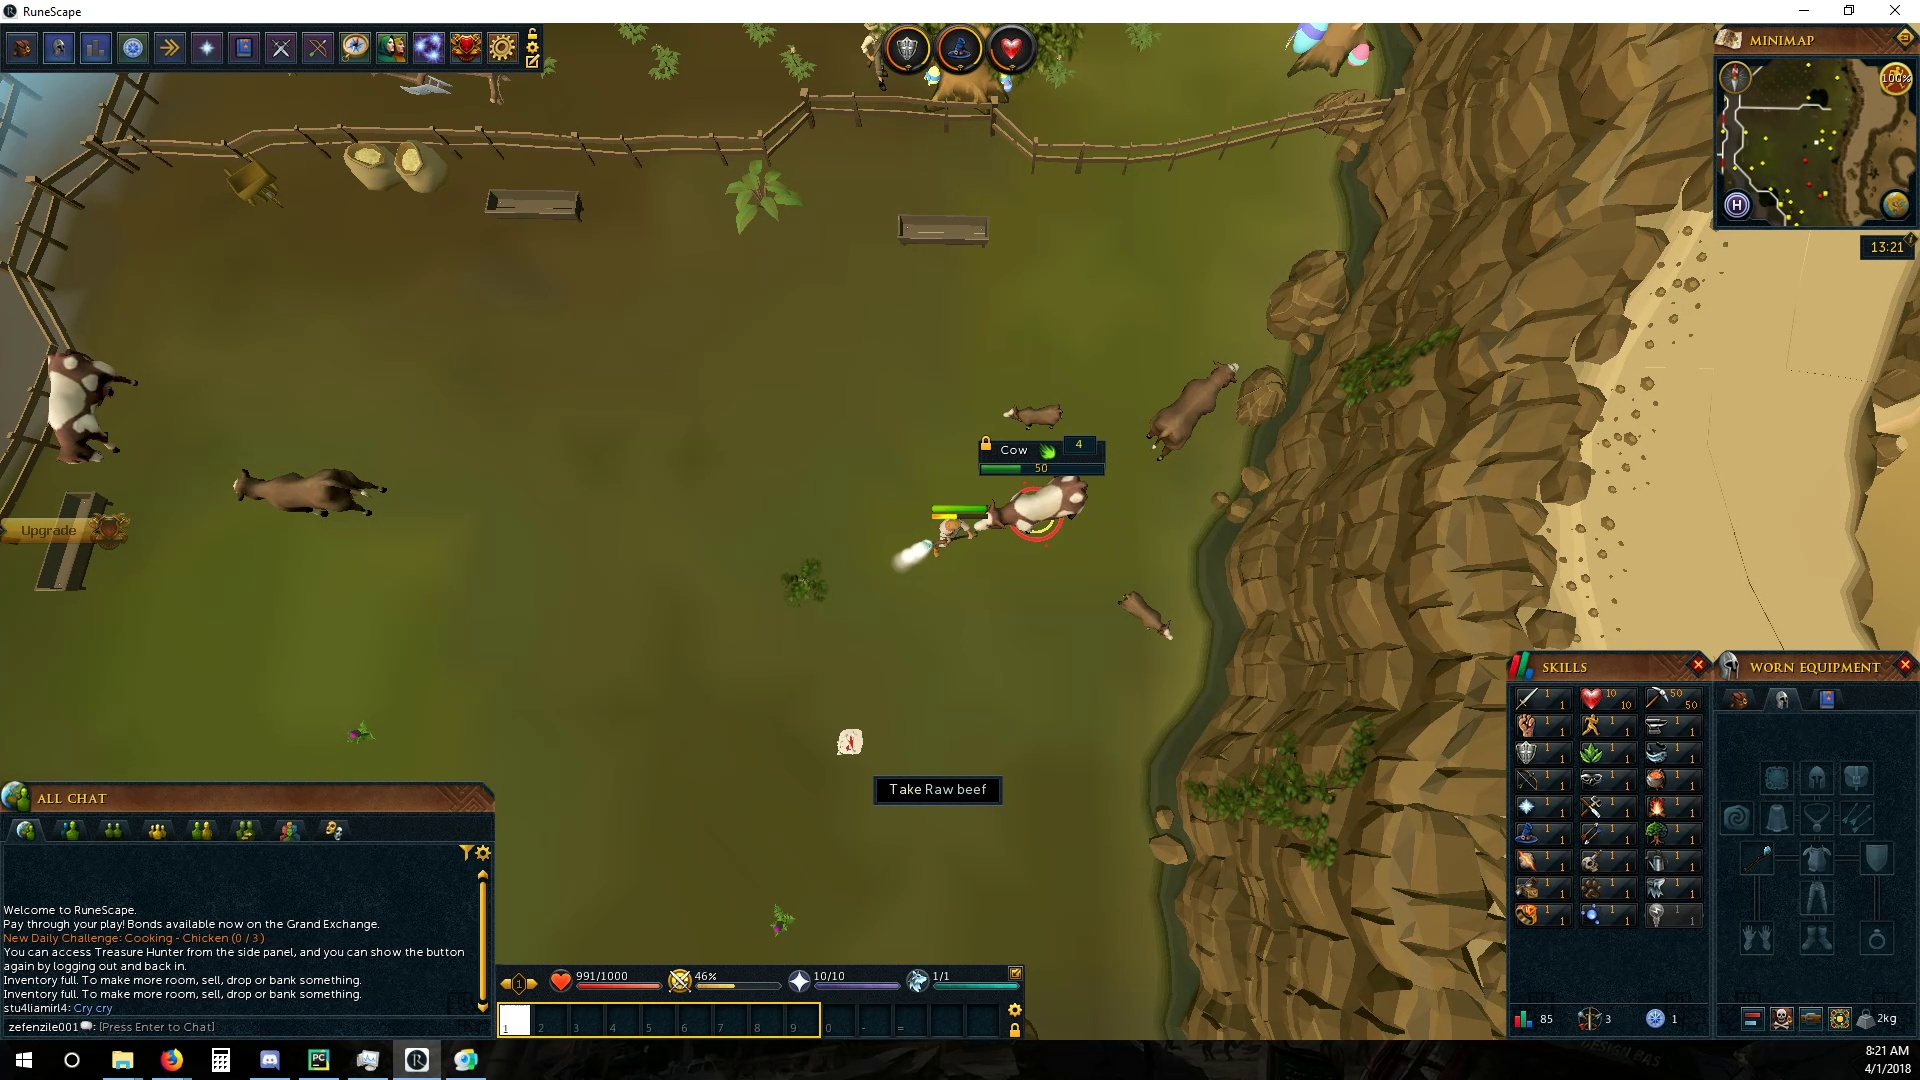calf: (1110, 589, 1175, 644), (998, 402, 1068, 434)
cow: (40, 348, 140, 469), (1137, 355, 1244, 465), (227, 465, 392, 520), (973, 473, 1091, 539)
cow_drop: (833, 728, 864, 760)
